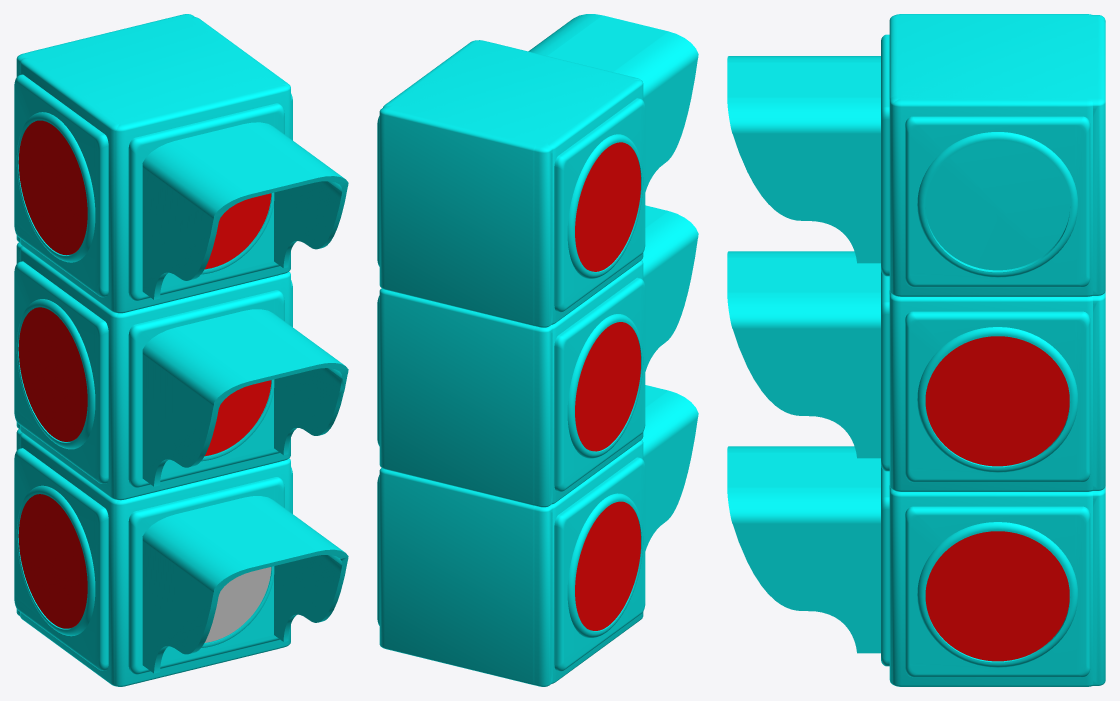
File: Semaforo.obj
3 views of the same model, side by side, from view 1: azimuth 30°, elevation 25°; view 2: azimuth 150°, elevation 25°; view 3: azimuth 270°, elevation 25° (orthographic). The views are drawn at different scales.
Parts seen in each view (by area): view 1: 2_коробка_2, Extrude-Extrude.1_8, Extrude-Extrude.1_7, Extrude-Extrude.1_6, 2_коробка_1, 2_коробка, 2_коробка_5, 2_коробка_6, 2_коробка_7, 2_коробка_8, 2_свет_1, 2_свет (+9 smaller); view 2: 2_коробка_5, 2_коробка_4, 2_коробка_3, 2_коробка_2, Extrude-Extrude.1_6, 2_коробка_1, 2_коробка, 2_коробка_6, 2_свет, 2_свет_2, 2_свет_1, Extrude-Extrude.1_8 (+6 smaller); view 3: 2_коробка_5, Extrude-Extrude.1_6, Extrude-Extrude.1_8, Extrude-Extrude.1_7, 2_коробка_4, 2_коробка_3, 2_коробка_2, 2_свет_3, 2_свет_4, 2_коробка_6, 2_коробка_7, 2_коробка_8 (+3 smaller).
Part boxes in pixels (<box>): 2_коробка_2: <box>14,17,280,313</box>; Extrude-Extrude.1_8: <box>142,496,348,673</box>; Extrude-Extrude.1_7: <box>142,309,348,486</box>; Extrude-Extrude.1_6: <box>142,122,348,299</box>; 2_коробка_1: <box>14,242,280,500</box>; 2_коробка: <box>14,429,280,686</box>; 2_коробка_5: <box>29,14,292,274</box>; 2_коробка_6: <box>20,17,290,312</box>; 2_коробка_7: <box>20,246,290,499</box>; 2_коробка_8: <box>20,432,290,686</box>; 2_свет_1: <box>18,307,87,441</box>; 2_свет: <box>18,494,87,628</box>; 2_коробка_5: <box>377,40,626,326</box>; 2_коробка_4: <box>377,288,535,505</box>; 2_коробка_3: <box>377,468,535,685</box>; 2_коробка_2: <box>395,41,645,327</box>; Extrude-Extrude.1_6: <box>528,14,698,191</box>; 2_коробка_1: <box>534,260,645,507</box>; 2_коробка: <box>534,439,645,686</box>; 2_коробка_6: <box>383,40,643,324</box>; 2_свет: <box>575,501,640,630</box>; 2_свет_2: <box>575,142,640,271</box>; 2_свет_1: <box>575,322,640,451</box>; Extrude-Extrude.1_8: <box>642,385,698,550</box>; 2_коробка_5: <box>889,19,1105,295</box>; Extrude-Extrude.1_6: <box>727,56,880,263</box>; Extrude-Extrude.1_8: <box>727,446,880,653</box>; Extrude-Extrude.1_7: <box>727,251,880,458</box>; 2_коробка_4: <box>889,291,1105,490</box>; 2_коробка_3: <box>889,486,1105,685</box>; 2_коробка_2: <box>889,15,1105,99</box>; 2_свет_3: <box>925,531,1069,661</box>; 2_свет_4: <box>925,336,1069,466</box>; 2_коробка_6: <box>881,14,1092,296</box>; 2_коробка_7: <box>881,271,1092,491</box>; 2_коробка_8: <box>881,466,1092,686</box>.
Bounding box in the file's own units: 10.82 × 28.8 × 16.87.
